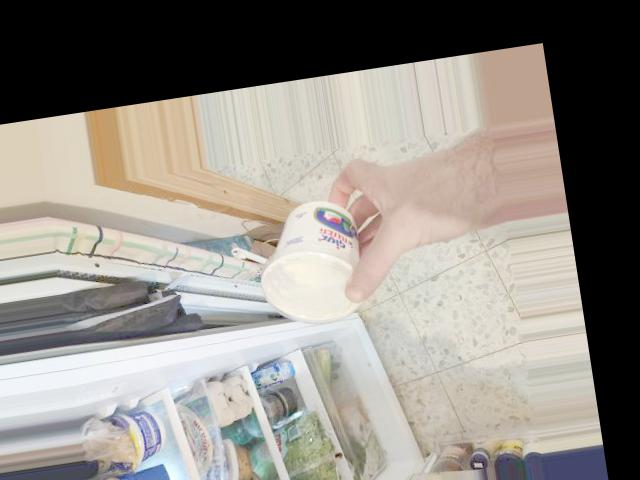cotage: (238, 200, 368, 325)
